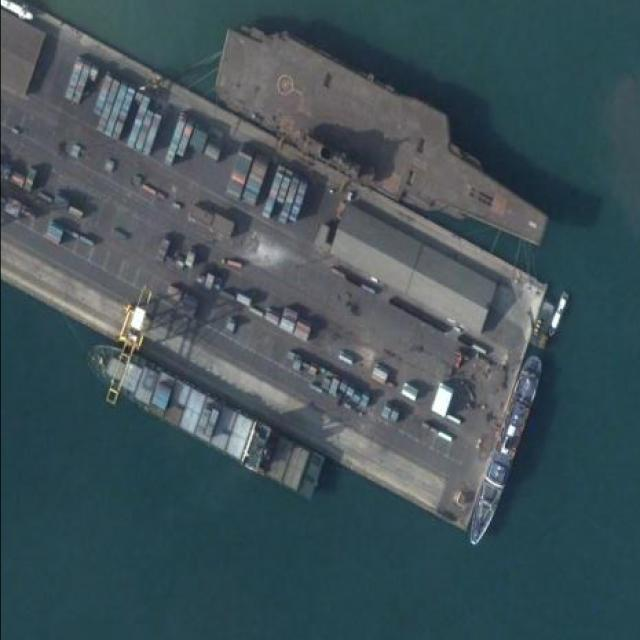Aircraft Carrier: (191, 6, 576, 266)
Container Ship: (76, 334, 329, 500)
Other Ship: (463, 352, 550, 551), (545, 293, 571, 339)
